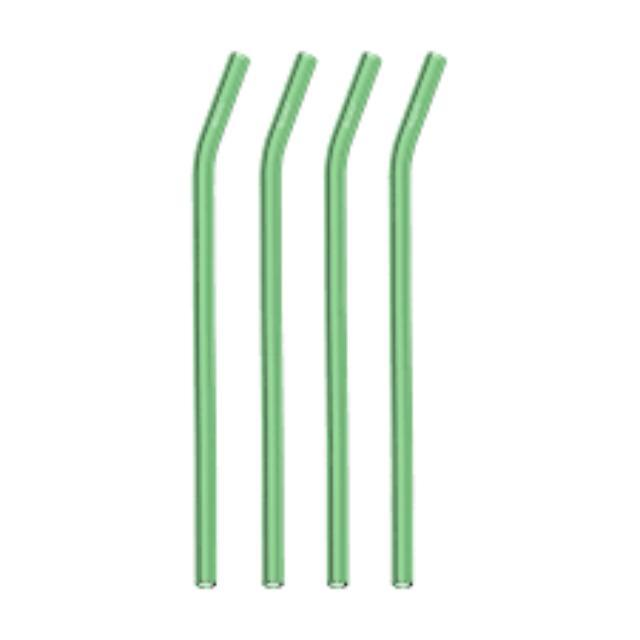Plastico descartable: (325, 52, 381, 588), (390, 52, 446, 587), (194, 52, 249, 588), (261, 52, 316, 588)
